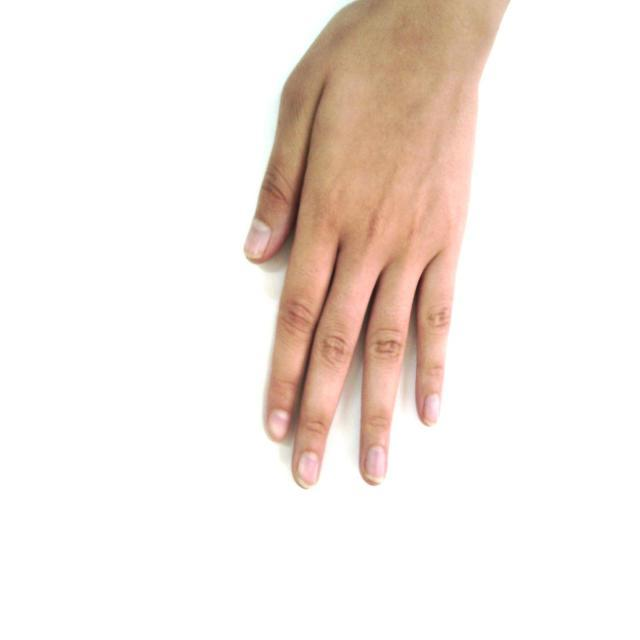Fingernail: (246, 221, 270, 256), (298, 452, 318, 486), (366, 446, 385, 479), (270, 411, 289, 439), (425, 393, 439, 423)
